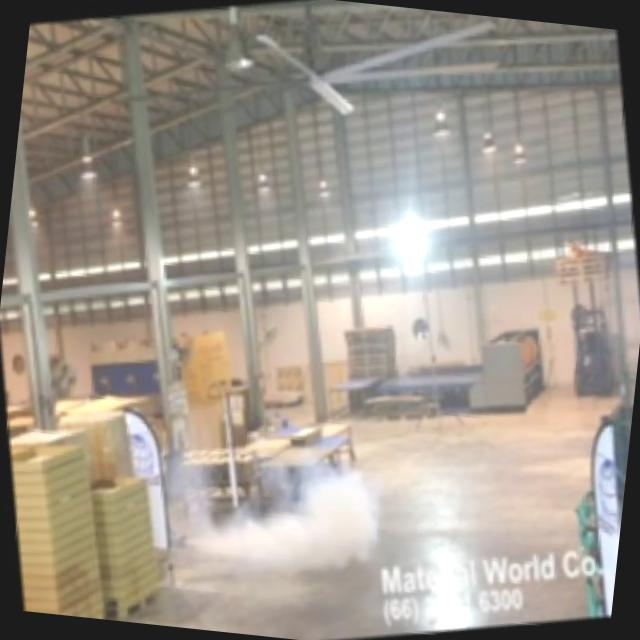smoke: (161, 414, 396, 612)
